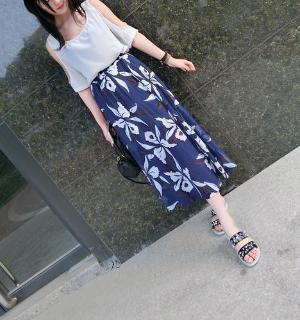long sleeve top: (46, 0, 139, 93)
skirt: (88, 50, 237, 211)
